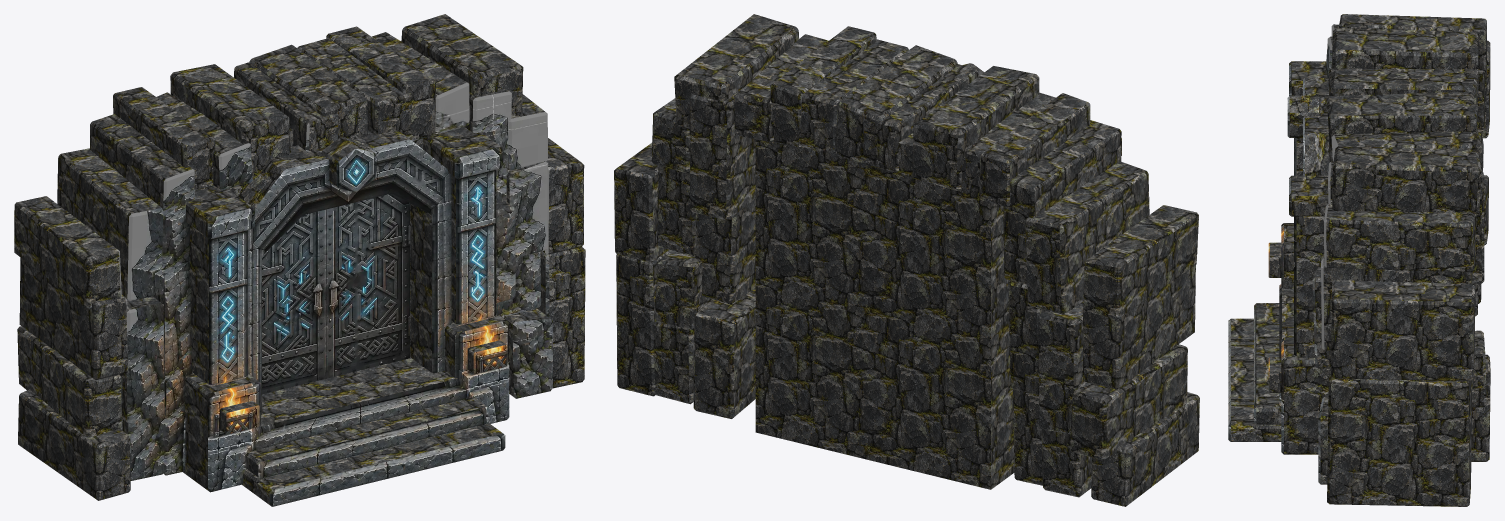
Rendered from dwarf-gate-v2.glb.
3 renders of one model, left to right at view 1: azimuth 30°, elevation 25°; view 2: azimuth 150°, elevation 25°; view 3: azimuth 270°, elevation 25°, orthographic. The views are drawn at different scales.
Visible parts, largest first — view 1: doors, frame, step0, rock5, pillar_l, step2, rock8, rock9, step1, rock2, rock6, pillar_r (+29 smaller); view 2: back, rock5, rock9, rock8, rock21, rock7, rock2, rock10, rock12, rock6, rock27, rock23 (+17 smaller); view 3: rock17, rock18, rock27, rock16, rock21, rock25, base_r, step2, rock23, pillar_r, step1, rock15 (+21 smaller).
Part boxes in pixels (x1,y1,x2,y2): doors: [262, 194, 409, 394]; frame: [233, 130, 451, 414]; step0: [248, 358, 473, 450]; rock5: [57, 148, 164, 300]; pillar_l: [189, 225, 248, 386]; step2: [242, 423, 505, 506]; rock8: [19, 257, 128, 379]; rock9: [14, 196, 121, 309]; step1: [245, 397, 489, 478]; rock2: [90, 114, 194, 275]; rock6: [18, 389, 130, 500]; pillar_r: [451, 169, 496, 325]; back: [755, 127, 1014, 489]; rock5: [1025, 161, 1149, 314]; rock9: [1083, 205, 1198, 319]; rock8: [1083, 265, 1195, 389]; rock21: [912, 66, 1039, 190]; rock7: [1070, 344, 1187, 460]; rock2: [1003, 120, 1121, 284]; rock10: [693, 288, 755, 418]; rock12: [689, 88, 755, 220]; rock6: [1091, 392, 1199, 506]; rock27: [674, 14, 799, 128]; rock23: [836, 45, 957, 165]; rock17: [1327, 367, 1472, 506]; rock18: [1331, 280, 1475, 381]; rock27: [1332, 146, 1481, 216]; rock16: [1324, 204, 1475, 272]; rock21: [1331, 28, 1478, 81]; rock25: [1328, 101, 1478, 162]; base_r: [1281, 337, 1330, 454]; step2: [1228, 318, 1281, 441]; rock23: [1330, 70, 1477, 104]; pillar_r: [1294, 216, 1324, 357]; step1: [1254, 303, 1281, 424]; rock15: [1321, 254, 1472, 350].
Bounding box in the file's own units: 8.6 × 5.69 × 4.11.
Materials: 2 (2 with a texture image).
